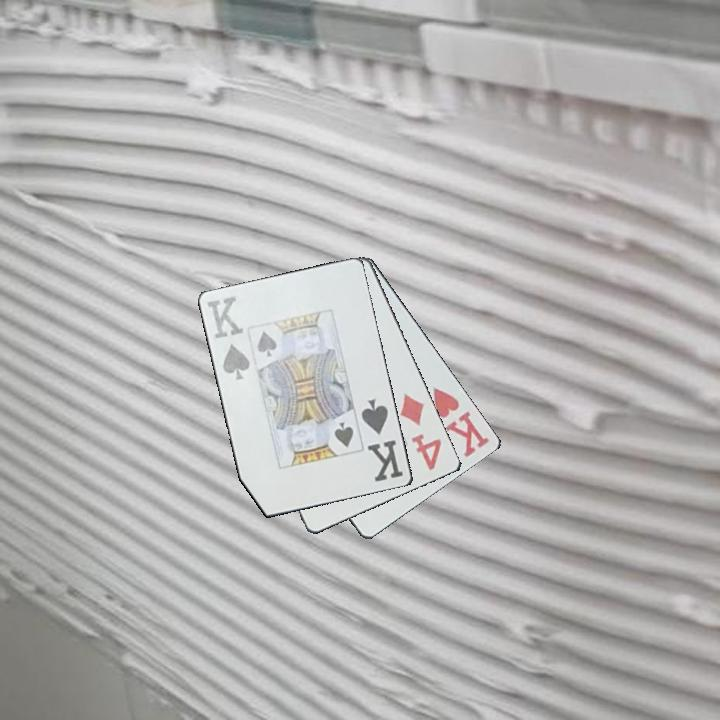4d: (396, 390, 445, 474)
Kh: (429, 383, 493, 461)
Ks: (358, 395, 407, 485), (204, 293, 253, 383)
